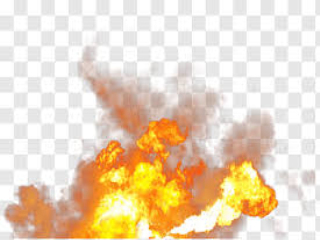fire: (4, 80, 291, 237)
